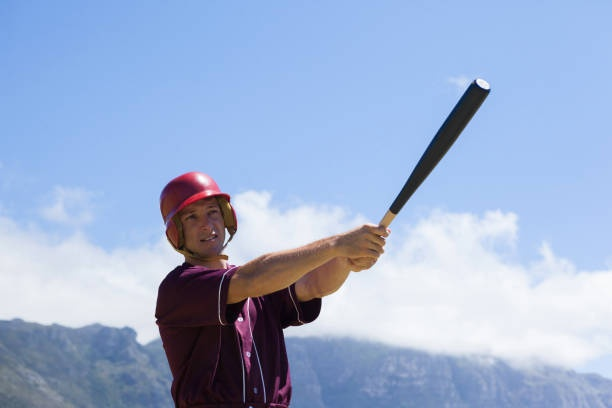bita: (366, 80, 490, 244)
